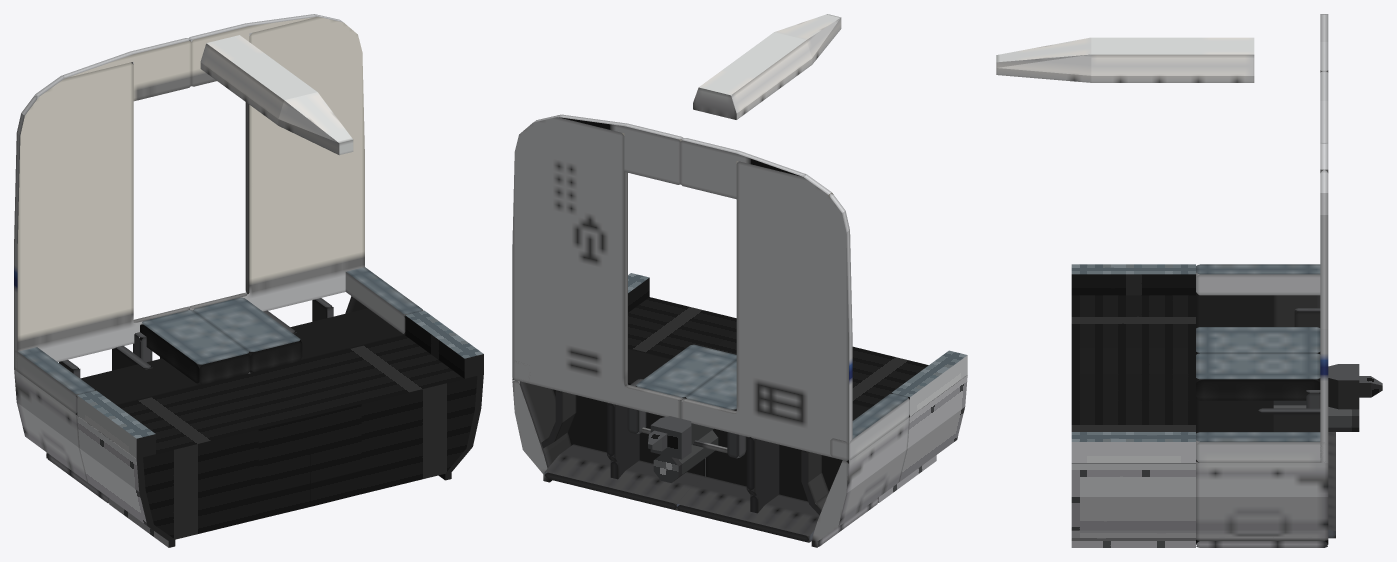
File: world_horizontal_plain.obj
3 views of the same model, side by side, from view 1: azimuth 30°, elevation 25°; view 2: azimuth 150°, elevation 25°; view 3: azimuth 270°, elevation 25° (orthographic). The views are drawn at different scales.
Visible parts, largest first — view 1: 端面1, 裙板-仪器舱靠近端面R, 裙板-仪器舱靠近端面L, 裙板-仪器舱R, 地板-中间, mesh, 裙板-仪器舱L, 端面2, 防雪风挡骨架, 防雪风挡骨架2; view 2: 端面1, 裙板-仪器舱R, 防雪风挡, 裙板-仪器舱靠近端面R, mesh, 裙板-仪器舱L, 端面2, 裙板-仪器舱靠近端面L, 地板-中间, 防雪风挡骨架, 防雪风挡骨架2, 半自动车钩 (+2 smaller); view 3: 裙板-仪器舱靠近端面L, 裙板-仪器舱L, 裙板-仪器舱靠近端面R, mesh, 地板-中间, 裙板-仪器舱R, 端面1, 半自动车钩, 防雪风挡骨架, 端面2, cylinder, 防雪风挡 (+1 smaller).
Boxes of the visible parts, x1,y1,x2,y2 form: 端面1: (14, 14, 364, 370); 裙板-仪器舱靠近端面R: (77, 373, 310, 547); 裙板-仪器舱靠近端面L: (251, 310, 483, 506); 裙板-仪器舱R: (14, 347, 248, 503); 地板-中间: (140, 297, 302, 384); mesh: (200, 35, 353, 155); 裙板-仪器舱L: (248, 267, 423, 373); 端面2: (62, 14, 316, 101); 防雪风挡骨架: (112, 310, 296, 370); 防雪风挡骨架2: (59, 298, 333, 378); 端面1: (512, 114, 852, 461); 裙板-仪器舱R: (706, 393, 909, 547); 防雪风挡: (544, 444, 819, 542); 裙板-仪器舱靠近端面R: (852, 346, 967, 502); mesh: (693, 14, 841, 119); 裙板-仪器舱L: (512, 348, 705, 482); 端面2: (559, 114, 805, 199); 裙板-仪器舱靠近端面L: (628, 273, 736, 358); 地板-中间: (636, 344, 736, 410); 防雪风挡骨架: (607, 378, 779, 513); 防雪风挡骨架2: (541, 390, 828, 515); 半自动车钩: (650, 416, 713, 459); 裙板-仪器舱靠近端面L: (1071, 374, 1195, 547); 裙板-仪器舱L: (1196, 399, 1328, 547); 裙板-仪器舱靠近端面R: (1071, 264, 1195, 374); mesh: (996, 37, 1254, 82); 地板-中间: (1196, 327, 1320, 400); 裙板-仪器舱R: (1196, 264, 1320, 328); 端面1: (1320, 14, 1328, 462); 半自动车钩: (1273, 364, 1359, 409); 防雪风挡骨架: (1258, 408, 1320, 431); 端面2: (1320, 14, 1328, 143); cylinder: (1273, 405, 1359, 431); 防雪风挡: (1328, 432, 1335, 538).
Size of the model in its own units: 3.38 by 3.81 by 3.11.
